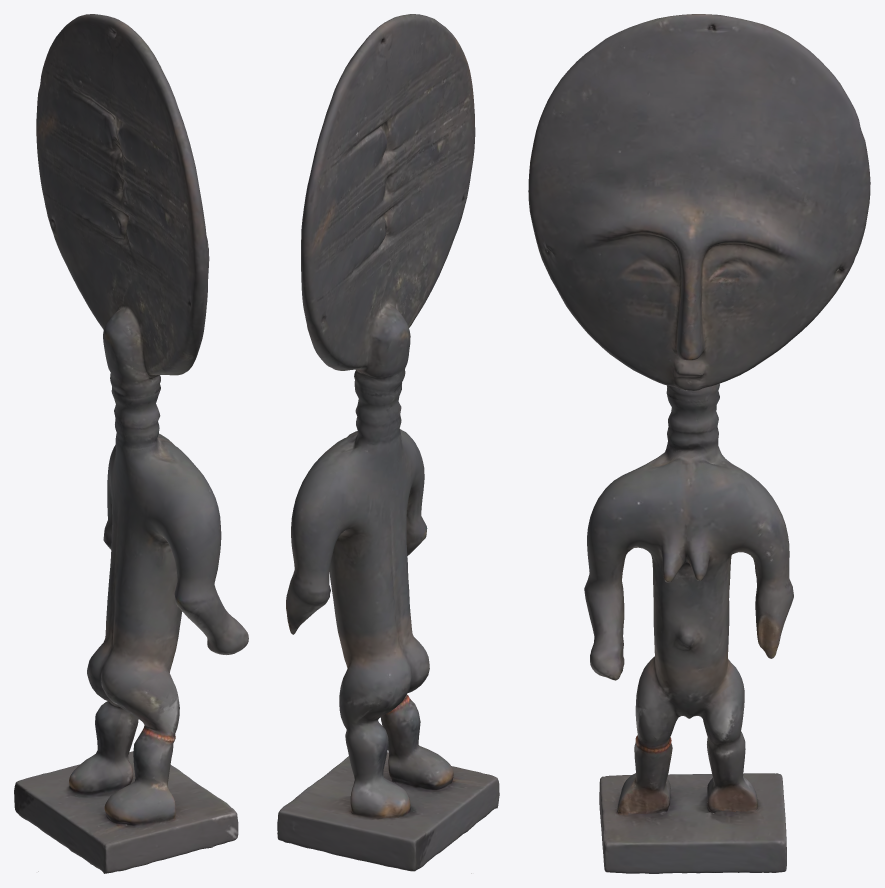
The model's file is preview.glb.
3 views of the same model, side by side, from view 1: azimuth 30°, elevation 25°; view 2: azimuth 150°, elevation 25°; view 3: azimuth 270°, elevation 25° (orthographic). The views are drawn at different scales.
Visible parts, largest first — view 1: Object_2; view 2: Object_2; view 3: Object_2.
Part boxes in pixels (x1=…): Object_2: x1=14, y1=14, x2=248, y2=873; Object_2: x1=277, y1=14, x2=499, y2=873; Object_2: x1=528, y1=14, x2=870, y2=873.
Size of the model in its own units: 9.87 by 46.45 by 16.87.
Materials: 1 (1 with a texture image).
